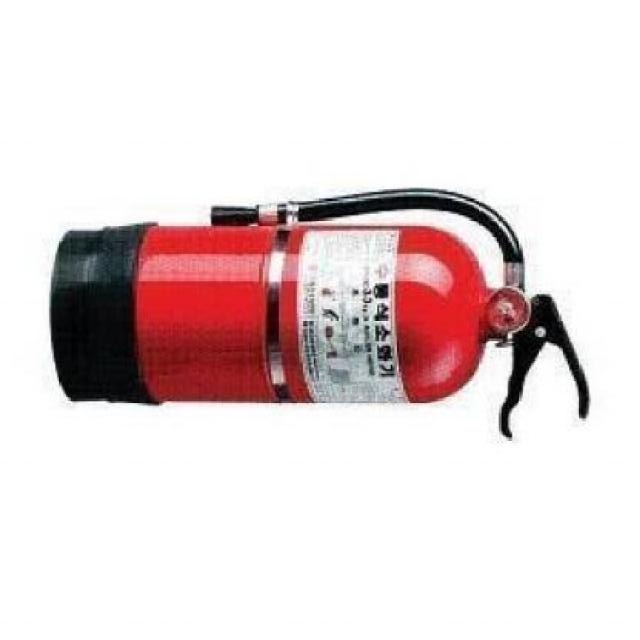fire extinguisher: (48, 187, 590, 441)
